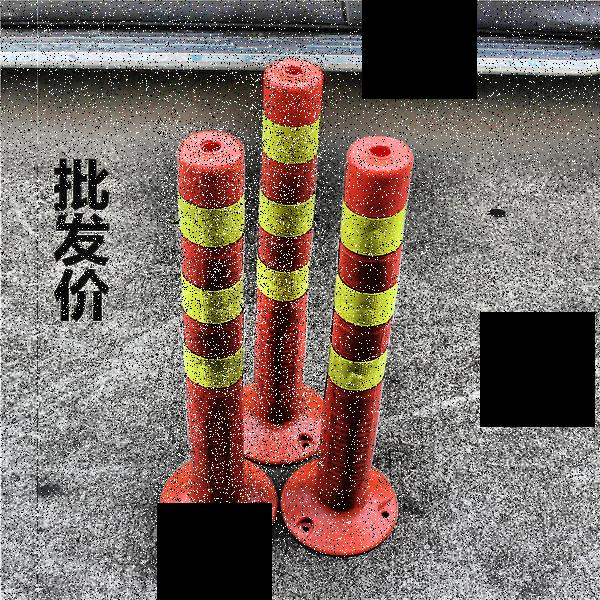bench: (157, 120, 270, 560), (250, 51, 327, 466)
